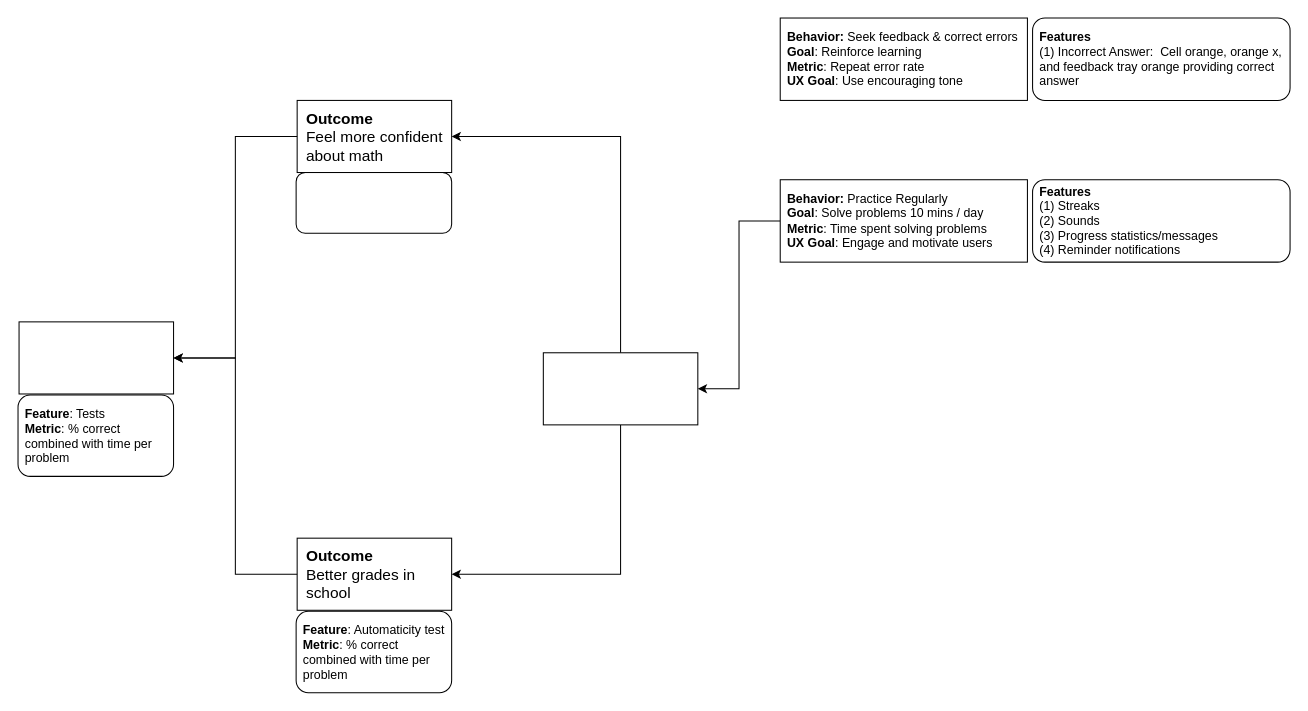
Some shapes in this 1308 by 711 pixel diagram are drawn without their labels. Here are the shapes that lost their labels. From the top down, the centre of each, then its label:
At point 373,202: "Feature : Ask user to rate their confidence Metric : Confidence Score".
At point 96,357: "Outcome Improve math automaticity".
At point 620,388: "Outcome Improve math proficiency".
